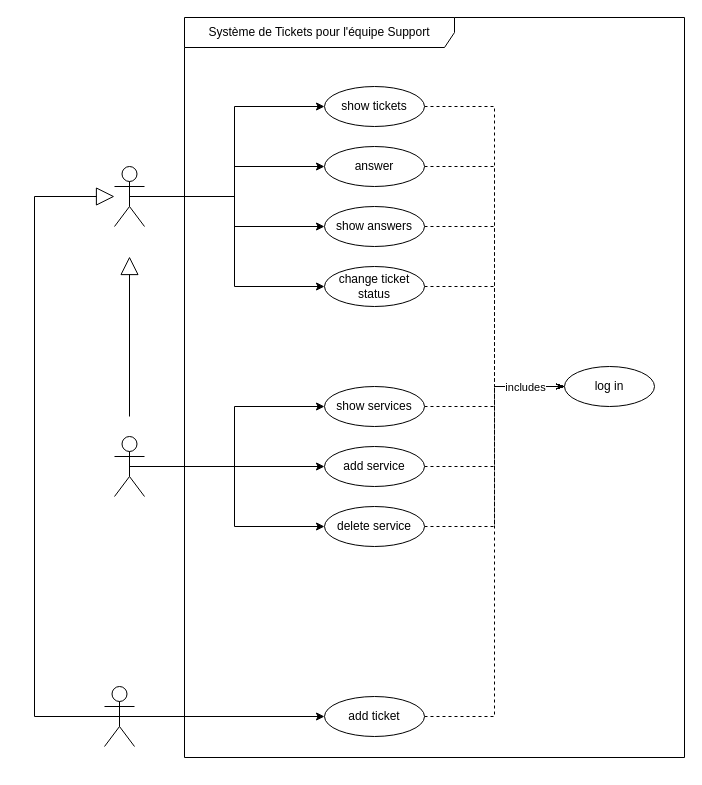
Image size: 702x785. Some labels were removed from this diagram. The centre of each missing label's shape, as x and y in pixels:
admin: (129,466)
template: (129,196)
user: (119,716)
